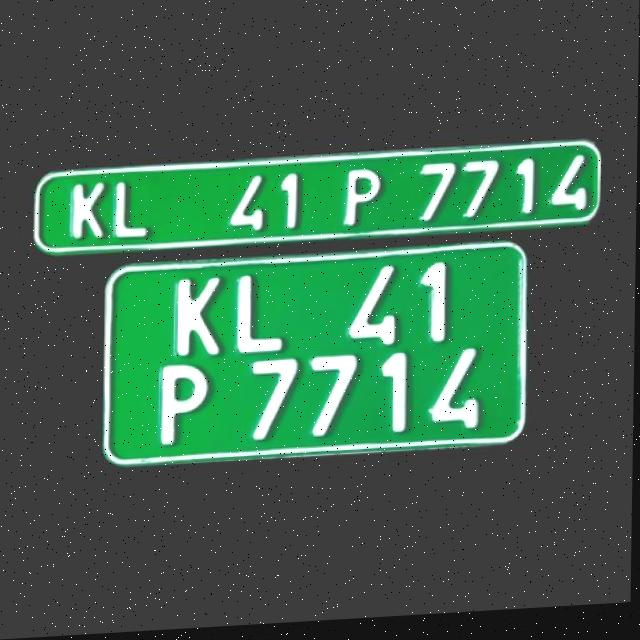plate: (102, 248, 531, 465), (30, 149, 601, 256)
